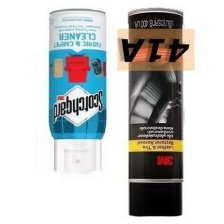aerosol_cans: (124, 4, 186, 218), (46, 5, 109, 178)
